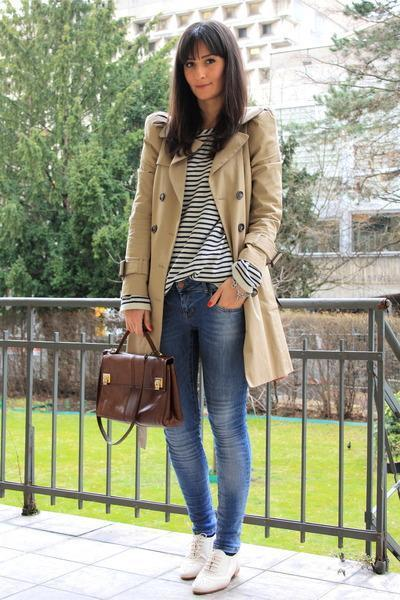bag: (85, 324, 179, 433)
jacket: (116, 84, 302, 386)
pants: (156, 273, 250, 555)
shirt: (167, 128, 231, 281)
shoe: (190, 540, 235, 587)
